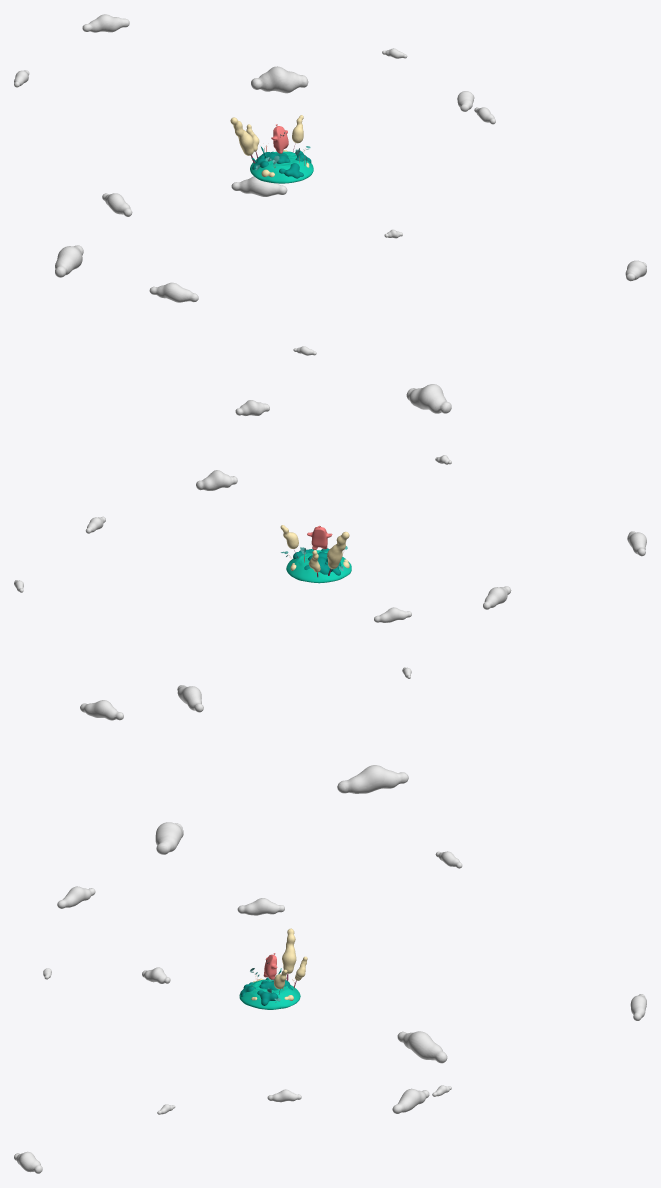
The model's file is candy_cartoon_scene.glb.
3 renders of one model, top to bottom at view 1: azimuth 30°, elevation 25°; view 2: azimuth 150°, elevation 25°; view 3: azimuth 270°, elevation 25°, orthographic. The views are drawn at different scales.
Parts seen in each view (by area): view 1: Metaball_7, Cylinder_8_4, Metaball_6, Metaball_5, Metaball_2_1, Metaball_2; view 2: Metaball_5, Cylinder_8_4, Metaball_7, Metaball_2; view 3: Metaball_5, Cylinder_8_4, Metaball_7, Metaball_4_2, Metaball_6, Metaball_2_1.
Boxes of the visible parts, left/top/right/bottom form: Metaball_7: left=251, top=66, right=308, bottom=93; Cylinder_8_4: left=250, top=151, right=313, bottom=183; Metaball_6: left=231, top=176, right=287, bottom=196; Metaball_5: left=55, top=245, right=83, bottom=277; Metaball_2_1: left=149, top=282, right=198, bottom=302; Metaball_2: left=82, top=14, right=129, bottom=32; Metaball_5: left=337, top=765, right=408, bottom=793; Cylinder_8_4: left=286, top=550, right=351, bottom=583; Metaball_7: left=406, top=384, right=451, bottom=413; Metaball_2: left=80, top=700, right=123, bottom=720; Metaball_5: left=397, top=1031, right=447, bottom=1063; Cylinder_8_4: left=239, top=979, right=300, bottom=1009; Metaball_7: left=155, top=822, right=183, bottom=854; Metaball_4_2: left=237, top=898, right=284, bottom=915; Metaball_6: left=392, top=1088, right=429, bottom=1113; Metaball_2_1: left=57, top=886, right=95, bottom=908.
Bounding box in the file's own units: 50.66 × 30.26 × 62.44.
Materials: 12 (1 with a texture image).
